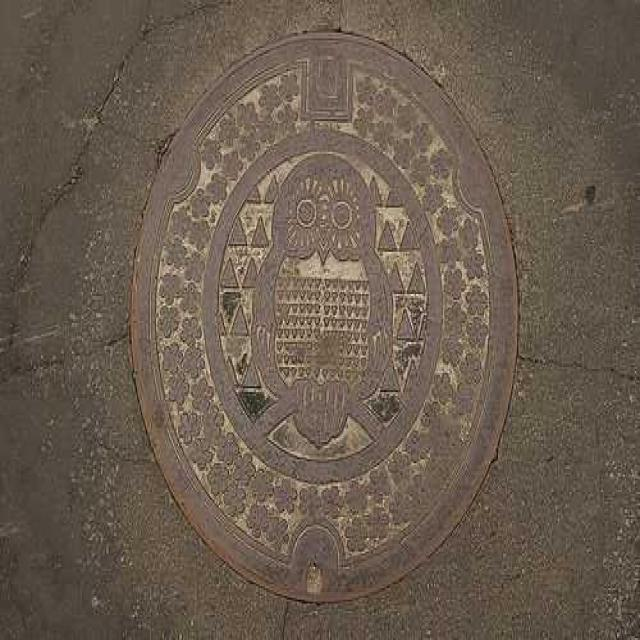manhole: (131, 34, 518, 602)
